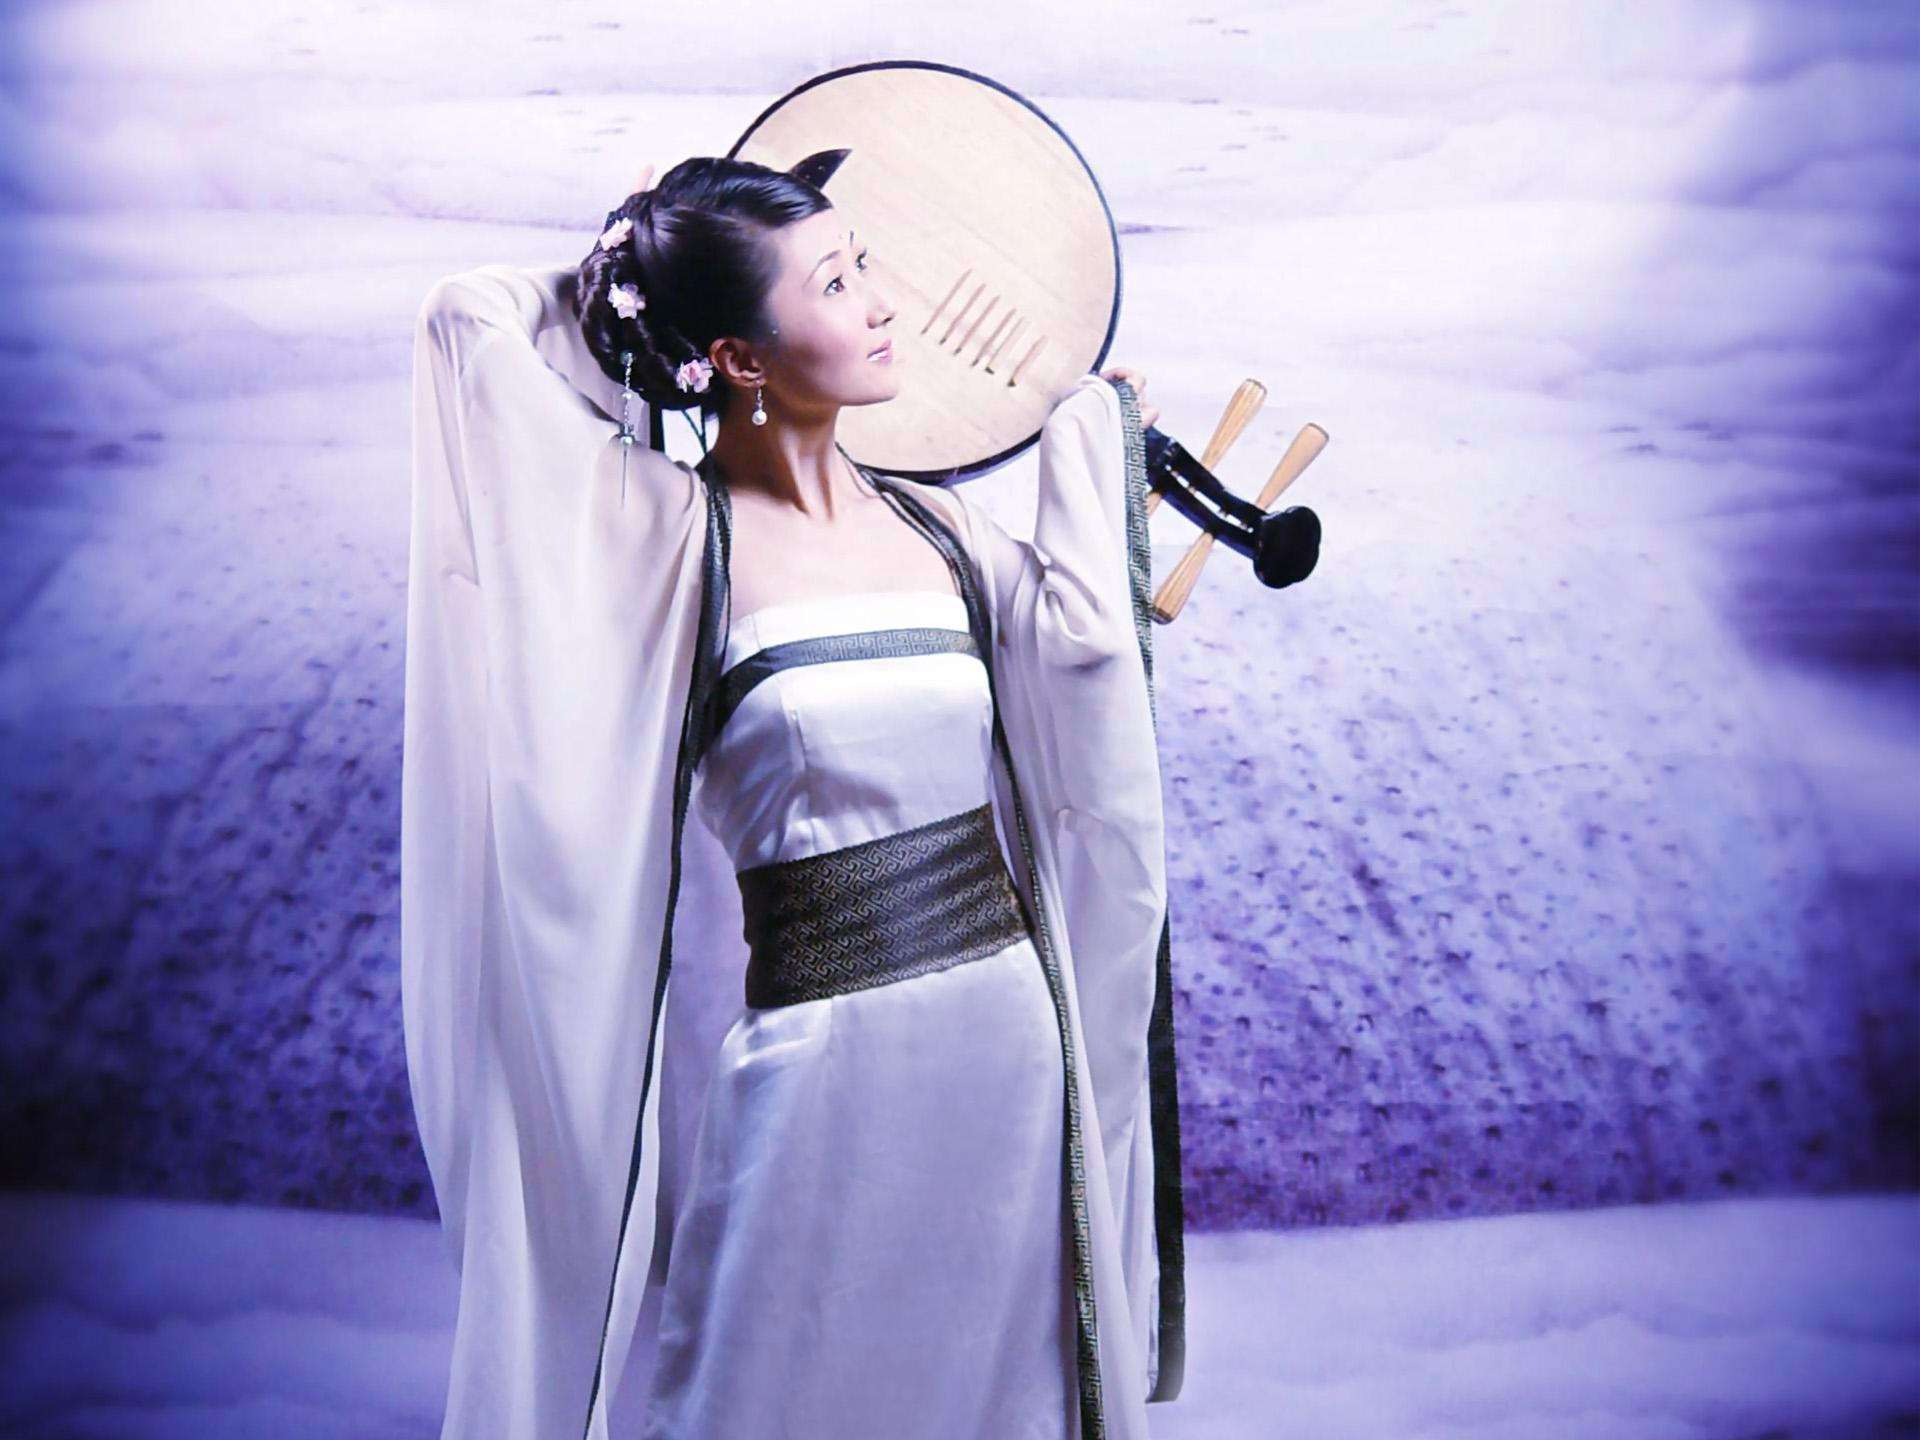person: (428, 141, 1239, 1253)
